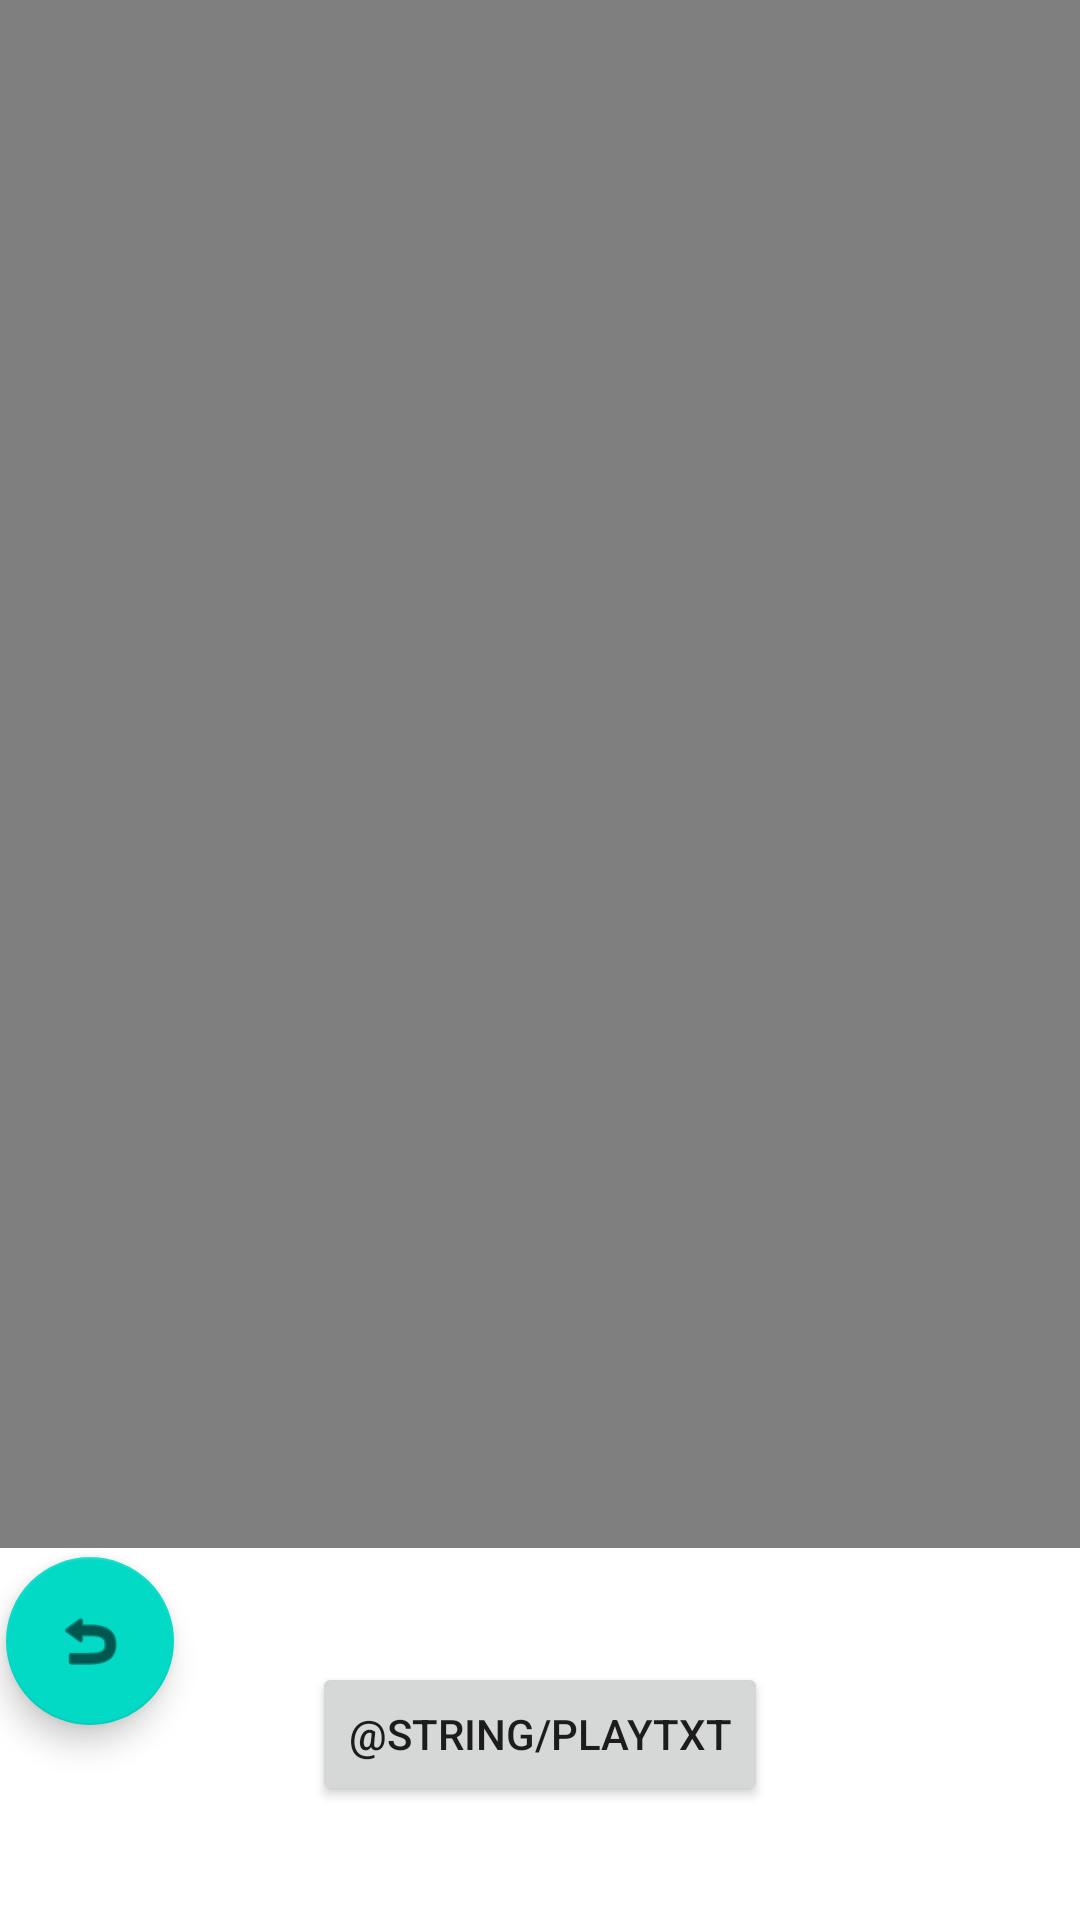

Point at icon controls on the screen. Image size 1080px×1920px, points as point (x, y).
revert: point (90, 1641)
